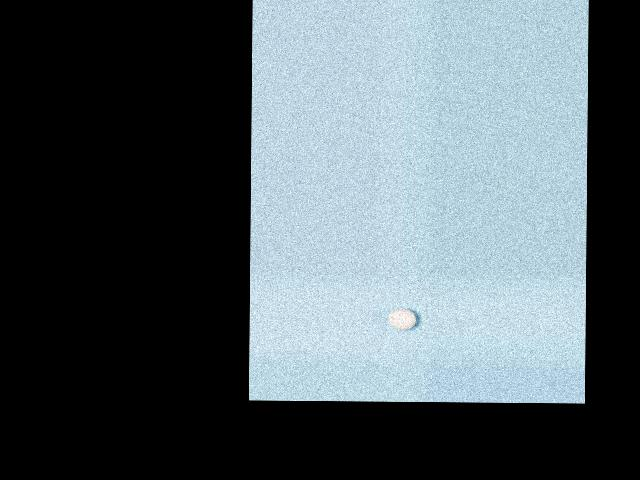egg: (387, 308, 416, 330)
